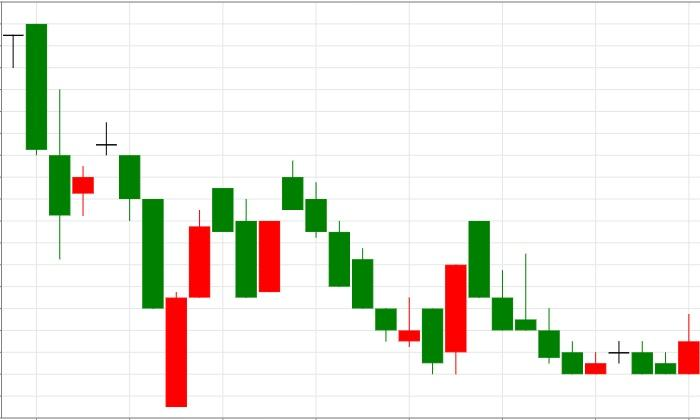bullish_engulfing_rise: (282, 161, 467, 374)
